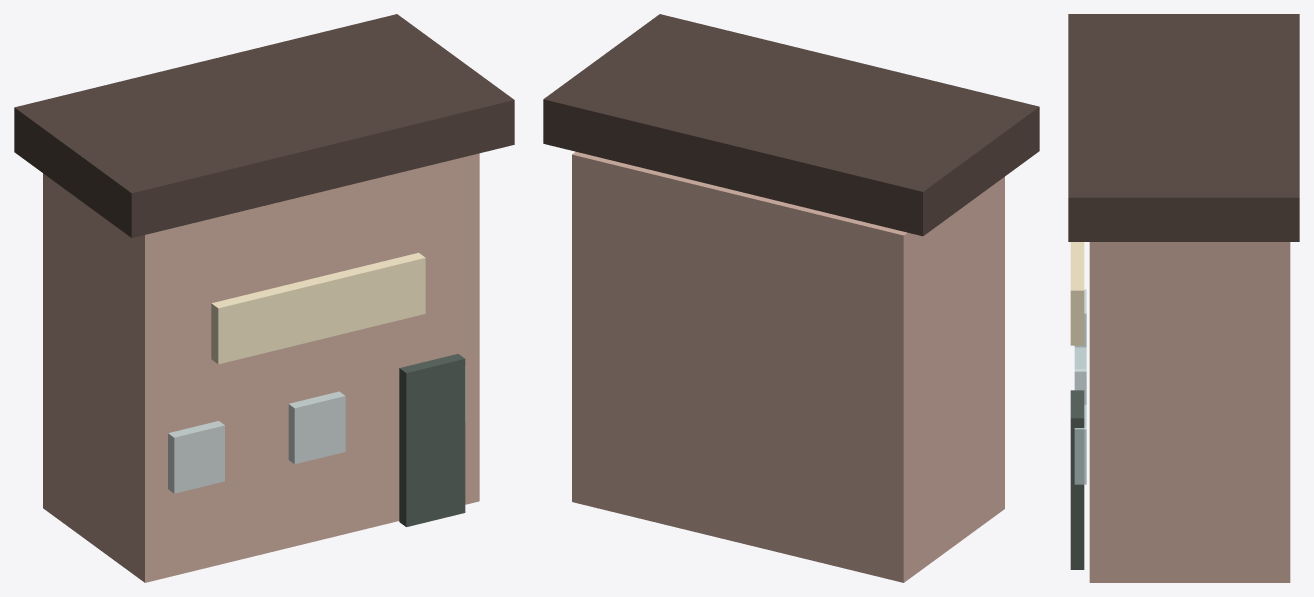
Rendered from cafe_corner.glb.
The picture shows the model from 3 angles, left to right: view 1: azimuth 30°, elevation 25°; view 2: azimuth 150°, elevation 25°; view 3: azimuth 270°, elevation 25°; orthographic projection.
Visible parts, largest first — view 1: body, roof, sign, door, window_1, window_0; view 2: body, roof; view 3: body, roof, door, sign, window_2, window_1.
Boxes of the visible parts, bbox=[...] form: body: bbox=[43, 153, 479, 582]; roof: bbox=[14, 14, 514, 237]; sign: bbox=[211, 252, 425, 364]; door: bbox=[399, 354, 465, 526]; window_1: bbox=[288, 391, 345, 464]; window_0: bbox=[168, 421, 224, 493]; body: bbox=[572, 152, 1004, 582]; roof: bbox=[543, 14, 1039, 236]; body: bbox=[1089, 242, 1290, 582]; roof: bbox=[1068, 14, 1299, 241]; door: bbox=[1070, 390, 1084, 569]; sign: bbox=[1070, 242, 1084, 345]; window_2: bbox=[1074, 405, 1086, 484]; window_1: bbox=[1074, 347, 1086, 404].
Size of the model in its own units: 1.43 by 1.44 by 0.76.
